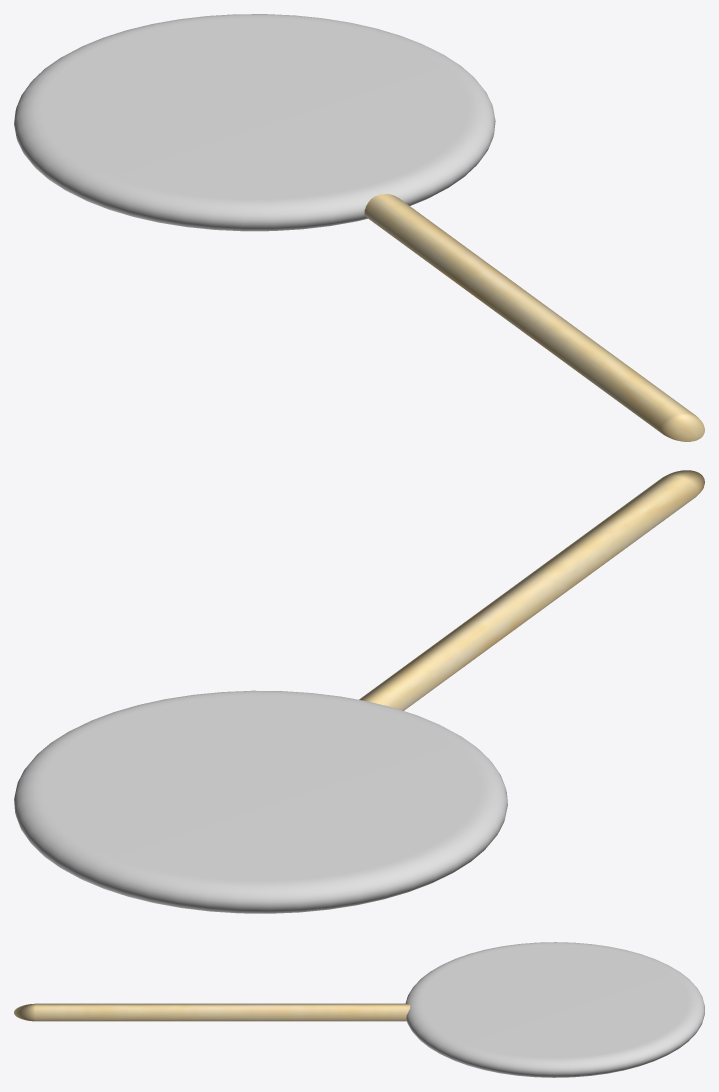
Rendered from candy_lollipop.obj.
3 renders of one model, top to bottom at view 1: azimuth 30°, elevation 25°; view 2: azimuth 150°, elevation 25°; view 3: azimuth 270°, elevation 25°, orthographic. The views are drawn at different scales.
Parts seen in each view (by area): view 1: Mesh2 Component_2_1 Rainbow_Lollipop1 Model, Mesh1 Component_1_1 Rainbow_Lollipop1 Model; view 2: Mesh2 Component_2_1 Rainbow_Lollipop1 Model, Mesh1 Component_1_1 Rainbow_Lollipop1 Model; view 3: Mesh2 Component_2_1 Rainbow_Lollipop1 Model, Mesh1 Component_1_1 Rainbow_Lollipop1 Model.
Boxes of the visible parts, x1,y1,x2,y2 form: Mesh2 Component_2_1 Rainbow_Lollipop1 Model: (14,14,495,231); Mesh1 Component_1_1 Rainbow_Lollipop1 Model: (364,194,704,441); Mesh2 Component_2_1 Rainbow_Lollipop1 Model: (14,690,507,913); Mesh1 Component_1_1 Rainbow_Lollipop1 Model: (359,470,704,710); Mesh2 Component_2_1 Rainbow_Lollipop1 Model: (405,942,704,1077); Mesh1 Component_1_1 Rainbow_Lollipop1 Model: (14,1003,410,1021).
Bounding box in the file's own units: 17.63 × 1.12 × 40.52.
2 materials, 1 textured.
